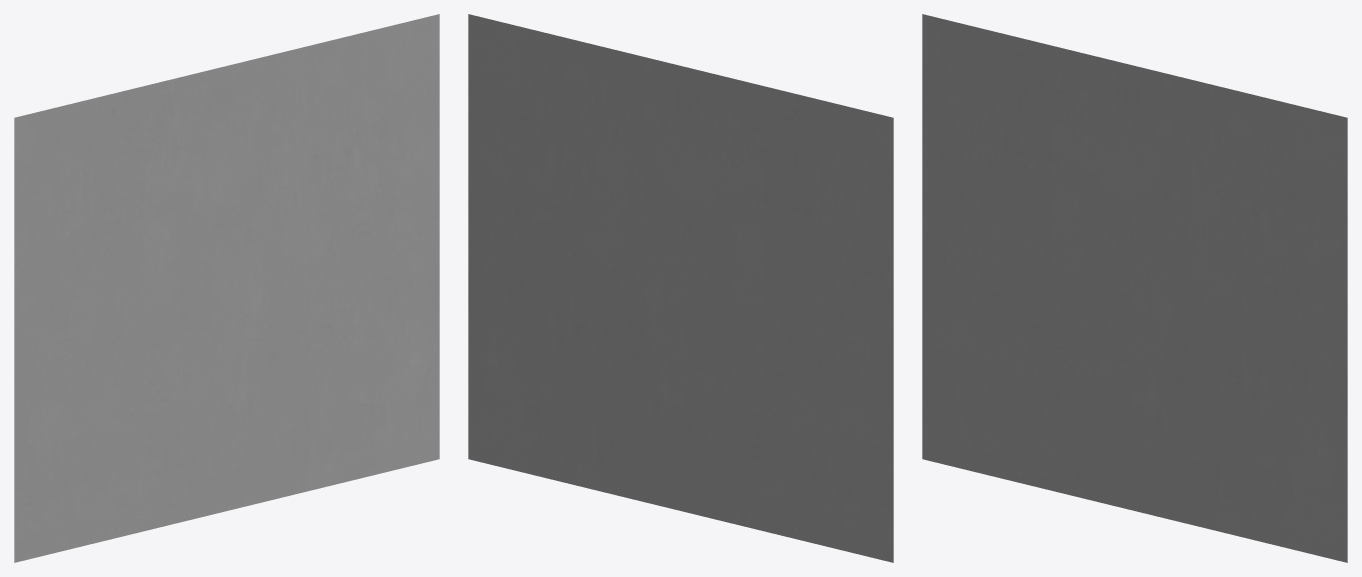
The model's file is clinic-cladding.glb.
3 views of the same model, side by side, from view 1: azimuth 30°, elevation 25°; view 2: azimuth 150°, elevation 25°; view 3: azimuth 330°, elevation 25° (orthographic).
Parts seen in each view (by area): view 1: CC0_facade_closure_panel; view 2: CC0_facade_closure_panel; view 3: CC0_facade_closure_panel.
Part boxes in pixels (bbox=[...]): CC0_facade_closure_panel: bbox=[14, 14, 439, 562]; CC0_facade_closure_panel: bbox=[468, 14, 893, 562]; CC0_facade_closure_panel: bbox=[922, 14, 1347, 562].
Size of the model in its own units: 3 by 3 by 0.
1 material, 1 textured.
